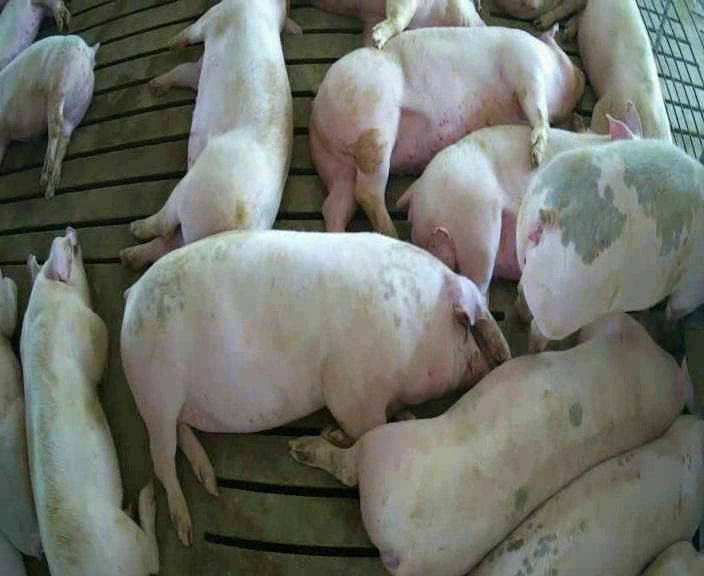pig: (122, 232, 489, 544), (291, 313, 692, 573), (310, 24, 583, 236), (120, 2, 300, 268), (20, 227, 156, 574), (517, 139, 703, 352), (470, 415, 703, 573), (534, 1, 671, 140), (0, 35, 98, 198)
